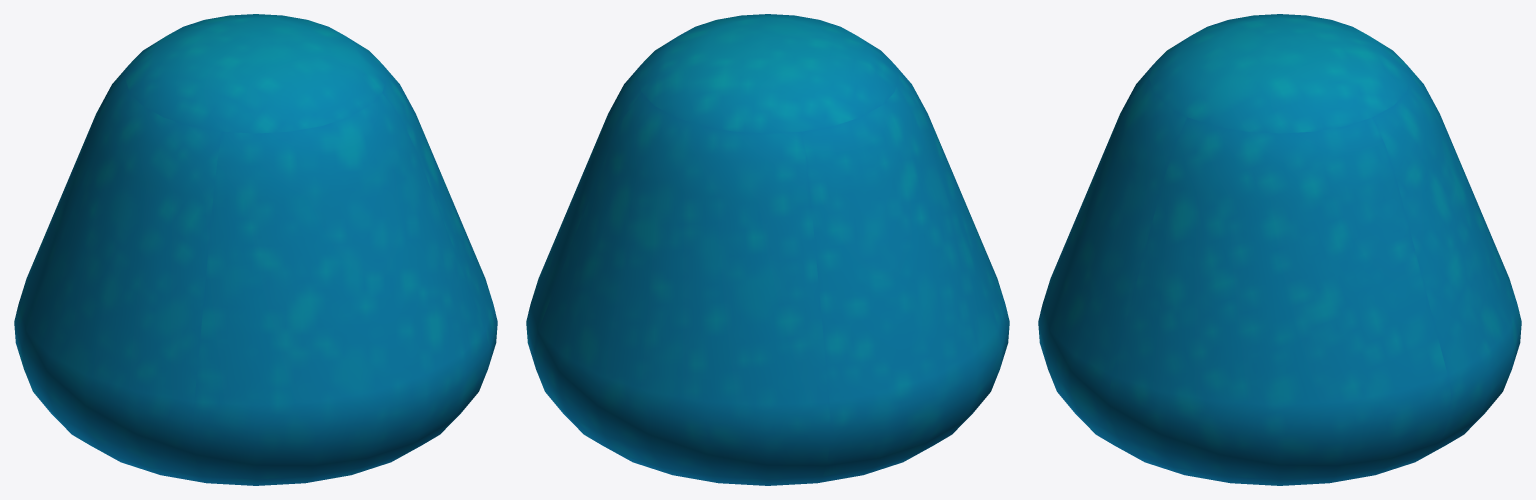
The model's file is GummyDrop.glb.
The picture shows the model from 3 angles, left to right: view 1: azimuth 30°, elevation 25°; view 2: azimuth 150°, elevation 25°; view 3: azimuth 270°, elevation 25°; orthographic projection.
Visible parts, largest first — view 1: geometry_0; view 2: geometry_0; view 3: geometry_0.
Boxes of the visible parts, <box> form: geometry_0: <box>14,14,497,485</box>; geometry_0: <box>526,14,1009,485</box>; geometry_0: <box>1038,14,1521,485</box>.
Bounding box in the file's own units: 0.2326 × 0.2 × 0.2326.
1 material, 1 textured.
